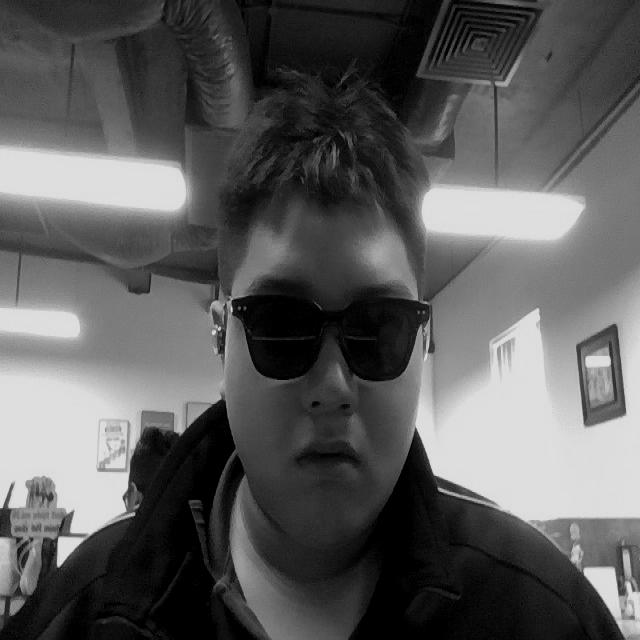fake: (227, 286, 439, 386)
real: (210, 93, 429, 548)
